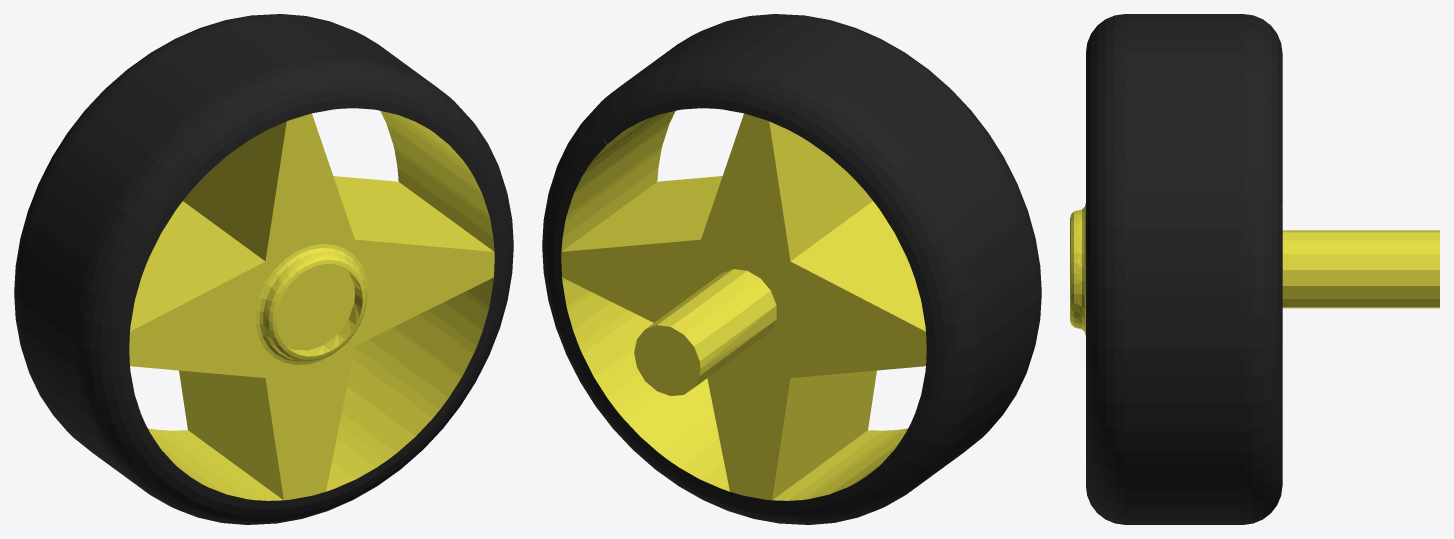
Rendered from front_right_wheel.dae.
3 views of the same model, side by side, from view 1: azimuth 30°, elevation 25°; view 2: azimuth 150°, elevation 25°; view 3: azimuth 270°, elevation 25° (orthographic). The views are drawn at different scales.
Visible parts, largest first — view 1: front_right_wheel; view 2: front_right_wheel; view 3: front_right_wheel.
Part boxes in pixels (x1,y1,x2,y2): front_right_wheel: (14, 14, 513, 524); front_right_wheel: (542, 14, 1041, 524); front_right_wheel: (1070, 14, 1439, 524).
Bounding box in the file's own units: 0.065 × 0.047 × 0.065.
